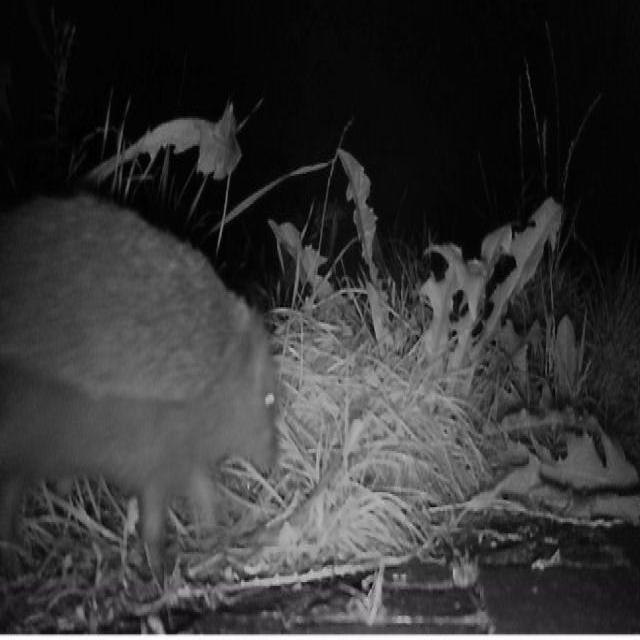Hedgehog: (0, 189, 285, 573)
